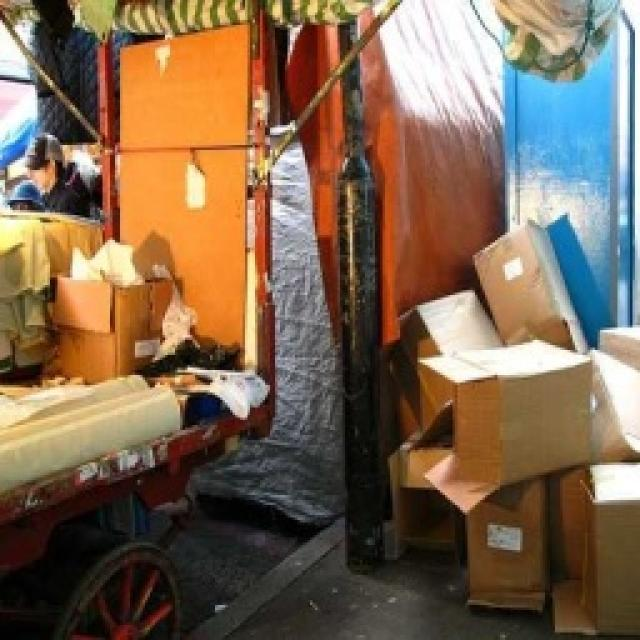box: (115, 152, 248, 362), (438, 353, 590, 473), (392, 288, 502, 430), (120, 43, 256, 146), (479, 238, 587, 366), (564, 467, 640, 640), (470, 475, 560, 613), (52, 278, 154, 386), (584, 339, 640, 484), (394, 444, 458, 544)
